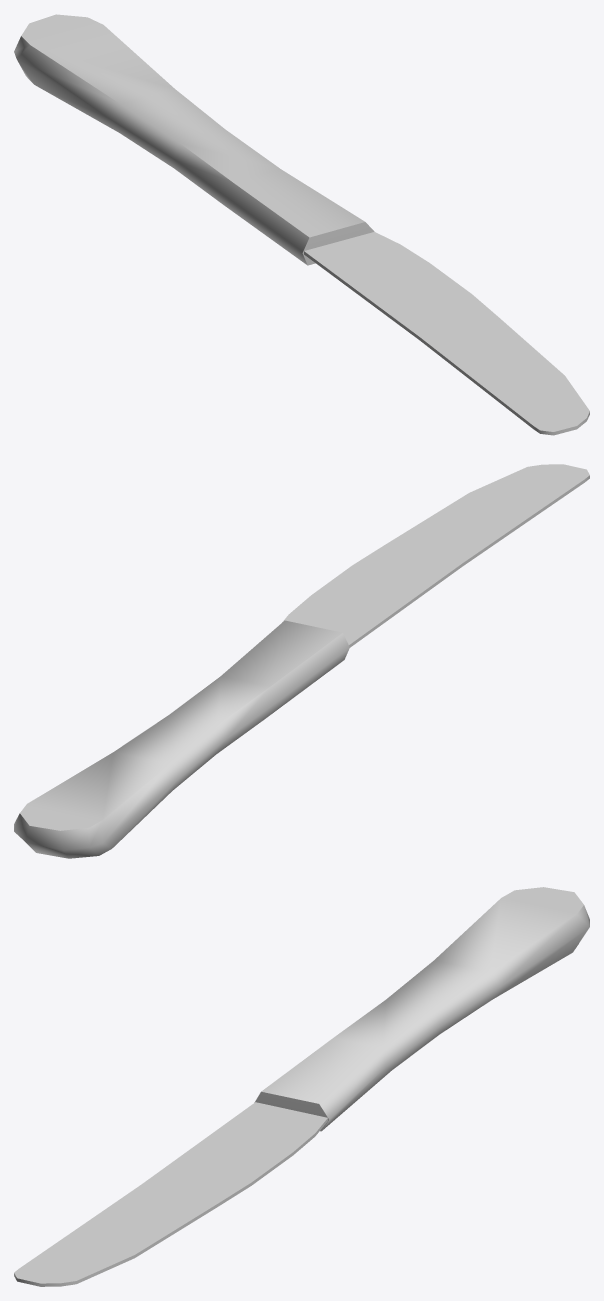
The model's file is ButterKnife_01.fbx.
The picture shows the model from 3 angles, top to bottom: view 1: azimuth 30°, elevation 25°; view 2: azimuth 150°, elevation 25°; view 3: azimuth 330°, elevation 25°; orthographic projection. The views are drawn at different scales.
Parts seen in each view (by area): view 1: ButterKnife_01; view 2: ButterKnife_01; view 3: ButterKnife_01.
Part boxes in pixels (<box>): ButterKnife_01: <box>14,14,589,435</box>; ButterKnife_01: <box>14,464,589,858</box>; ButterKnife_01: <box>14,887,589,1286</box>.
Size of the model in its own units: 0.0182 by 0.00598 by 0.1711.
